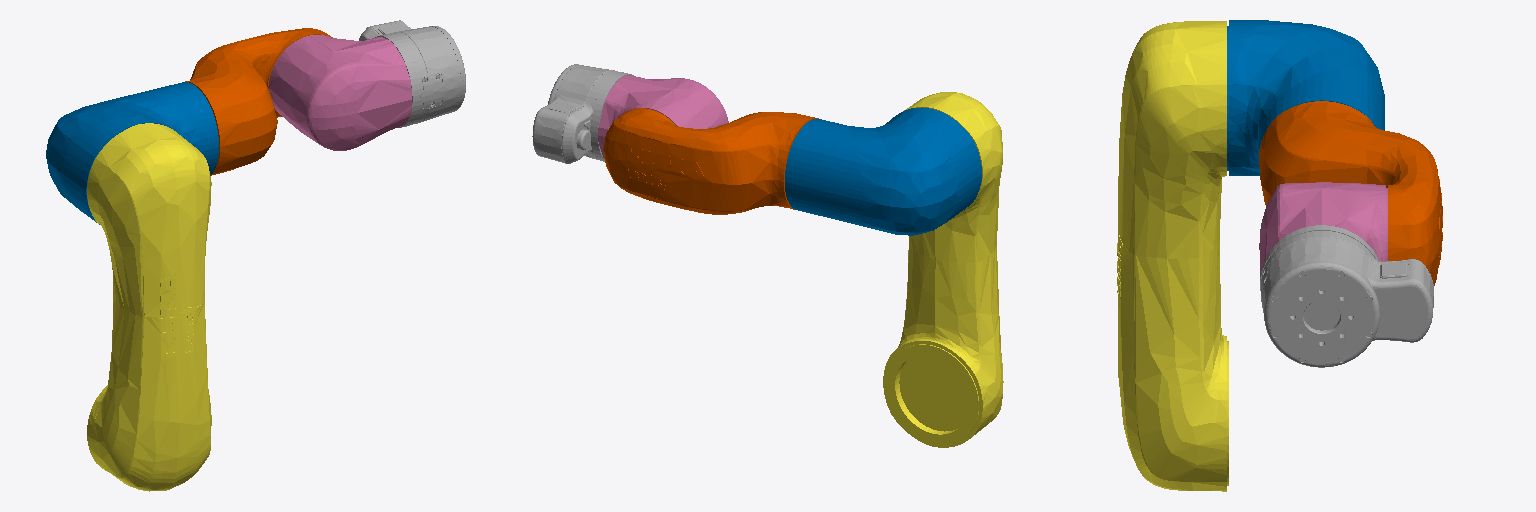
The robot description file, URDF, robot "LBR3R760iisy":
<?xml version="1.0" encoding="UTF-8"?>
<robot name="LBR3R760iisy">
  <ros2_control name="iisy_hardware" type="system">
    <hardware>
      <plugin>kuka_rox::KukaRoXHardwareInterface</plugin>
    </hardware>
    <!-- define joints and command/state interfaces for each joint -->
    <joint name="joint_a1">
      <command_interface name="position">
        <param name="min">-1</param>
        <param name="max"> 1</param>
      </command_interface>
      <state_interface name="position"/>
    </joint>
    <joint name="joint_a2">
      <command_interface name="position">
        <param name="min">-1</param>
        <param name="max"> 1</param>
      </command_interface>
      <state_interface name="position"/>
    </joint>
    <joint name="joint_a3">
      <command_interface name="position">
        <param name="min">-1</param>
        <param name="max"> 1</param>
      </command_interface>
      <state_interface name="position"/>
    </joint>
    <joint name="joint_a4">
      <command_interface name="position">
        <param name="min">-1</param>
        <param name="max"> 1</param>
      </command_interface>
      <state_interface name="position"/>
    </joint>
    <joint name="joint_a5">
      <command_interface name="position">
        <param name="min">-1</param>
        <param name="max"> 1</param>
      </command_interface>
      <state_interface name="position"/>
    </joint>
    <joint name="joint_a6">
      <command_interface name="position">
        <param name="min">-1</param>
        <param name="max"> 1</param>
      </command_interface>
      <state_interface name="position"/>
    </joint>
  </ros2_control>
  <link name="base_link"/>
  <link name="LBR3R760_iisy_fixedbase">
    <collision>
      <geometry>
        <mesh filename="package://kuka_iisy_support/meshes/robotbase.stl"/>
      </geometry>
      <origin rpy="-0.0 0.0 -0.0" xyz="0.0 0.0 0.0"/>
    </collision>
    <inertial>
      <inertia ixx="5.0E-4" ixy="0.0" ixz="0.0" iyy="5.0E-4" iyz="0.0" izz="5.0E-4"/>
      <mass value="3.6832E0"/>
      <origin rpy="-0.0 0.0 -0.0" xyz="0.0 0.0 0.0"/>
    </inertial>
    <visual>
      <geometry>
        <mesh filename="package://kuka_iisy_support/meshes/robotbase.stl"/>
      </geometry>
      <origin rpy="-0.0 0.0 -0.0" xyz="0.0 0.0 0.0"/>
    </visual>
  </link>
  <link name="LBR3R760_iisy_axis1">
    <collision>
      <geometry>
        <mesh filename="package://kuka_iisy_support/meshes/link1.stl"/>
      </geometry>
      <origin rpy="-0.0 0.0 -0.0" xyz="0.0 0.0 0.0"/>
    </collision>
    <inertial>
      <inertia ixx="0.00864540353780418" ixy="0.0" ixz="0.0" iyy="0.00573103463618732" iyz="0.0" izz="0.00974792600424334"/>
      <mass value="3.2492E0"/>
      <origin rpy="-0.0 0.0 -0.0" xyz="0.0 0.0 0.0"/>
    </inertial>
    <visual>
      <geometry>
        <mesh filename="package://kuka_iisy_support/meshes/link1.stl"/>
      </geometry>
      <origin rpy="-0.0 0.0 -0.0" xyz="0.0 0.0 0.0"/>
    </visual>
  </link>
  <link name="LBR3R760_iisy_axis2">
    <collision>
      <geometry>
        <mesh filename="package://kuka_iisy_support/meshes/link2.stl"/>
      </geometry>
      <origin rpy="-0.0 0.0 -0.0" xyz="0.0 0.0 0.0"/>
    </collision>
    <inertial>
      <inertia ixx="0.0521692170047944" ixy="0.0" ixz="0.0" iyy="0.0042331111850977" iyz="0.0" izz="0.0534425693052013"/>
      <mass value="3.212E0"/>
      <origin rpy="-0.0 0.0 -0.0" xyz="0.0 0.0 0.0"/>
    </inertial>
    <visual>
      <geometry>
        <mesh filename="package://kuka_iisy_support/meshes/link2.stl"/>
      </geometry>
      <origin rpy="-0.0 0.0 -0.0" xyz="0.0 0.0 0.0"/>
    </visual>
  </link>  
  <link name="LBR3R760_iisy_axis3">
    <collision>
      <geometry>
        <mesh filename="package://kuka_iisy_support/meshes/link3.stl"/>
      </geometry>
      <origin rpy="-0.0 0.0 -0.0" xyz="0.0 0.0 0.0"/>
    </collision>
    <inertial>
      <inertia ixx="0.0113804888378926" ixy="0.0" ixz="0.0" iyy="0.00566536942404497" iyz="0.0" izz="0.0133950588482047"/>
      <mass value="3.471E0"/>
      <origin rpy="-0.0 0.0 -0.0" xyz="0.0 0.0 0.0"/>
    </inertial>
    <visual>
      <geometry>
        <mesh filename="package://kuka_iisy_support/meshes/link3.stl"/>
      </geometry>
      <origin rpy="-0.0 0.0 -0.0" xyz="0.0 0.0 0.0"/>
    </visual>
  </link>  
  <link name="LBR3R760_iisy_axis4">
    <collision>
      <geometry>
        <mesh filename="package://kuka_iisy_support/meshes/link4.stl"/>
      </geometry>
      <origin rpy="-0.0 0.0 -0.0" xyz="0.0 0.0 0.0"/>
    </collision>
    <inertial>
      <inertia ixx="0.00244684891934666" ixy="0.0" ixz="0.0" iyy="0.00929300990970133" iyz="0.0" izz="0.00957902612033654"/>
      <mass value="2.0138E0"/>
      <origin rpy="-0.0 0.0 -0.0" xyz="0.0 0.0 0.0"/>
    </inertial>
    <visual>
      <geometry>
        <mesh filename="package://kuka_iisy_support/meshes/link4.stl"/>
      </geometry>
      <origin rpy="-0.0 0.0 -0.0" xyz="0.0 0.0 0.0"/>
    </visual>
  </link>  
  <link name="LBR3R760_iisy_axis5">
    <collision>
      <geometry>
        <mesh filename="package://kuka_iisy_support/meshes/link5.stl"/>
      </geometry>
      <origin rpy="-0.0 0.0 -0.0" xyz="0.0 0.0 0.0"/>
    </collision>
    <inertial>
      <inertia ixx="0.00236252846105637" ixy="0.0" ixz="0.0" iyy="0.00141854396142661" iyz="0.0" izz="0.0025813096143987"/>
      <mass value="1.4418E0"/>
      <origin rpy="-0.0 0.0 -0.0" xyz="0.0 0.0 0.0"/>
    </inertial>
    <visual>
      <geometry>
        <mesh filename="package://kuka_iisy_support/meshes/link5.stl"/>
      </geometry>
      <origin rpy="-0.0 0.0 -0.0" xyz="0.0 0.0 0.0"/>
    </visual>
  </link>  
  <link name="LBR3R760_iisy_axis6">
    <collision>
      <geometry>
        <mesh filename="package://kuka_iisy_support/meshes/link6.stl"/>
      </geometry>
      <origin rpy="-0.0 0.0 -0.0" xyz="0.0 0.0 0.0"/>
    </collision>
    <inertial>
      <inertia ixx="0.0014673917002994" ixy="0.0" ixz="0.0" iyy="0.00112131520678352" iyz="0.0" izz="0.00158160486913488"/>
      <mass value="8.43E-1"/>
      <origin rpy="-0.0 0.0 -0.0" xyz="0.0 0.0 0.0"/>
    </inertial>
    <visual>
      <geometry>
        <mesh filename="package://kuka_iisy_support/meshes/link6.stl"/>
      </geometry>
      <origin rpy="-0.0 0.0 -0.0" xyz="0.0 0.0 0.0"/>
    </visual>
  </link>  
  <joint name="base_joint" type="fixed">
    <parent link="base_link" />
    <child link="LBR3R760_iisy_fixedbase" />
  </joint>
  <joint name="joint_a1" type="revolute">
    <axis xyz="0.0 0.0 1.0"/>
    <child link="LBR3R760_iisy_axis1"/>
    <limit effort="5.0E0" lower="-3.2288591E0" upper="3.2288591E0" velocity="2.0E0"/>
    <origin rpy="-0.0 0.0 -0.0" xyz="0.0 0.0 0.1264"/>
    <parent link="LBR3R760_iisy_fixedbase"/>
  </joint>
  <joint name="joint_a2" type="revolute">
    <axis xyz="0.0 1.0 0.0"/>
    <child link="LBR3R760_iisy_axis2"/>
    <limit effort="5.0E0" lower="-4.0142572796E0" upper="8.726646E-1" velocity="2.0E0"/>
    <origin rpy="-0.0 0.0 -0.0" xyz="0.0 -0.0829 0.0886"/>
    <parent link="LBR3R760_iisy_axis1"/>
  </joint>
  <joint name="joint_a3" type="revolute">
    <axis xyz="0.0 1.0 0.0"/>
    <child link="LBR3R760_iisy_axis3"/>
    <limit effort="5.0E0" lower="-2.61799387799E0" upper="2.61799387799E0" velocity="2.0E0"/>
    <origin rpy="-0.0 0.0 -0.0" xyz="0.0 0.0 0.3"/>
    <parent link="LBR3R760_iisy_axis2"/>
  </joint>
  <joint name="joint_a4" type="revolute">
    <axis xyz="1.0 0.0 0.0"/>
    <child link="LBR3R760_iisy_axis4"/>
    <limit effort="5.0E0" lower="-3.05432619E0" upper="3.05432619E0" velocity="2.0E0"/>
    <origin rpy="-0.0 0.0 -0.0" xyz="0.1292 0.0829 0.0"/>
    <parent link="LBR3R760_iisy_axis3"/>
  </joint>
  <joint name="joint_a5" type="revolute">
    <axis xyz="0.0 1.0 0.0"/>
    <child link="LBR3R760_iisy_axis5"/>
    <limit effort="5.0E0" lower="-1.919862177E0" upper="1.919862177E0" velocity="2.0E0"/>
    <origin rpy="-0.0 0.0 -0.0" xyz="0.1708 0.0382 0.0"/>
    <parent link="LBR3R760_iisy_axis4"/>
  </joint>
  <joint name="joint_a6" type="revolute">
    <axis xyz="1.0 0.0 0.0"/>
    <child link="LBR3R760_iisy_axis6"/>
    <limit effort="5.0E0" lower="-3.839724354E0" upper="3.839724354E0" velocity="2.0E0"/>
    <origin rpy="-0.0 0.0 -0.0" xyz="0.0682 -0.0382 0.0"/>
    <parent link="LBR3R760_iisy_axis5"/>
  </joint>
  <transmission name="trans_LBR3R760iisy_Urdf_Joint1_name">
    <actuator name="LBR3R760iisy_Urdf_Joint1_name_motor">
      <hardwareInterface>EffortJointInterface</hardwareInterface>
      <mechanicalReduction>1.0</mechanicalReduction>
    </actuator>
    <joint name="joint_a1">
      <hardwareInterface>hardware_interface/EffortJointInterface</hardwareInterface>
    </joint>
    <type>transmission_interface/SimpleTransmission</type>
  </transmission>
  <transmission name="trans_LBR3R760iisy_Urdf_Joint2_name">
    <actuator name="LBR3R760iisy_Urdf_Joint2_name_motor">
      <hardwareInterface>EffortJointInterface</hardwareInterface>
      <mechanicalReduction>1.0</mechanicalReduction>
    </actuator>
    <joint name="joint_a2">
      <hardwareInterface>hardware_interface/EffortJointInterface</hardwareInterface>
    </joint>
    <type>transmission_interface/SimpleTransmission</type>
  </transmission>
  <transmission name="trans_LBR3R760iisy_Urdf_Joint3_name">
    <actuator name="LBR3R760iisy_Urdf_Joint3_name_motor">
      <hardwareInterface>EffortJointInterface</hardwareInterface>
      <mechanicalReduction>1.0</mechanicalReduction>
    </actuator>
    <joint name="joint_a3">
      <hardwareInterface>hardware_interface/EffortJointInterface</hardwareInterface>
    </joint>
    <type>transmission_interface/SimpleTransmission</type>
  </transmission>
  <transmission name="trans_LBR3R760iisy_Urdf_Joint4_name">
    <actuator name="LBR3R760iisy_Urdf_Joint4_name_motor">
      <hardwareInterface>EffortJointInterface</hardwareInterface>
      <mechanicalReduction>1.0</mechanicalReduction>
    </actuator>
    <joint name="joint_a4">
      <hardwareInterface>hardware_interface/EffortJointInterface</hardwareInterface>
    </joint>
    <type>transmission_interface/SimpleTransmission</type>
  </transmission>
  <transmission name="trans_LBR3R760iisy_Urdf_Joint5_name">
    <actuator name="LBR3R760iisy_Urdf_Joint5_name_motor">
      <hardwareInterface>EffortJointInterface</hardwareInterface>
      <mechanicalReduction>1.0</mechanicalReduction>
    </actuator>
    <joint name="joint_a5">
      <hardwareInterface>hardware_interface/EffortJointInterface</hardwareInterface>
    </joint>
    <type>transmission_interface/SimpleTransmission</type>
  </transmission>
  <transmission name="trans_LBR3R760iisy_Urdf_Joint6_name">
    <actuator name="LBR3R760iisy_Urdf_Joint6_name_motor">
      <hardwareInterface>EffortJointInterface</hardwareInterface>
      <mechanicalReduction>1.0</mechanicalReduction>
    </actuator>
    <joint name="joint_a6">
      <hardwareInterface>hardware_interface/EffortJointInterface</hardwareInterface>
    </joint>
    <type>transmission_interface/SimpleTransmission</type>
  </transmission>
</robot>

--- Render facts (derived) ---
3 views of the same robot in one strip: view 1: azimuth 30°, elevation 25°; view 2: azimuth 150°, elevation 25°; view 3: azimuth 270°, elevation 25° (orthographic).
Model LBR3R760iisy with 8 links and 7 joints (6 revolute, 1 fixed), rooted at base_link, posed every joint at zero.
Links seen in each view (by area): view 1: LBR3R760_iisy_axis2, LBR3R760_iisy_axis5, LBR3R760_iisy_axis3, LBR3R760_iisy_axis4, LBR3R760_iisy_axis6; view 2: LBR3R760_iisy_axis2, LBR3R760_iisy_axis3, LBR3R760_iisy_axis4, LBR3R760_iisy_axis6, LBR3R760_iisy_axis5; view 3: LBR3R760_iisy_axis2, LBR3R760_iisy_axis6, LBR3R760_iisy_axis4, LBR3R760_iisy_axis3, LBR3R760_iisy_axis5.
Link boxes in pixels (<box>): LBR3R760_iisy_axis2: <box>87,123,211,491</box>; LBR3R760_iisy_axis5: <box>268,35,420,150</box>; LBR3R760_iisy_axis3: <box>46,82,218,224</box>; LBR3R760_iisy_axis4: <box>185,28,332,175</box>; LBR3R760_iisy_axis6: <box>359,20,465,127</box>; LBR3R760_iisy_axis2: <box>883,92,1003,447</box>; LBR3R760_iisy_axis3: <box>785,107,981,235</box>; LBR3R760_iisy_axis4: <box>603,108,818,214</box>; LBR3R760_iisy_axis6: <box>532,64,633,163</box>; LBR3R760_iisy_axis5: <box>595,75,728,159</box>; LBR3R760_iisy_axis2: <box>1117,21,1228,491</box>; LBR3R760_iisy_axis6: <box>1260,225,1433,367</box>; LBR3R760_iisy_axis4: <box>1259,101,1442,285</box>; LBR3R760_iisy_axis3: <box>1227,20,1384,175</box>; LBR3R760_iisy_axis5: <box>1259,182,1387,276</box>.
Bounding box of the posed robot: 0.5138 × 0.2811 × 0.4349 m (x, y, z).
5 mesh visuals loaded from 7 distinct referenced files (5 binary STL); not drawn: 2 (reference not matched to a file when rendering).
